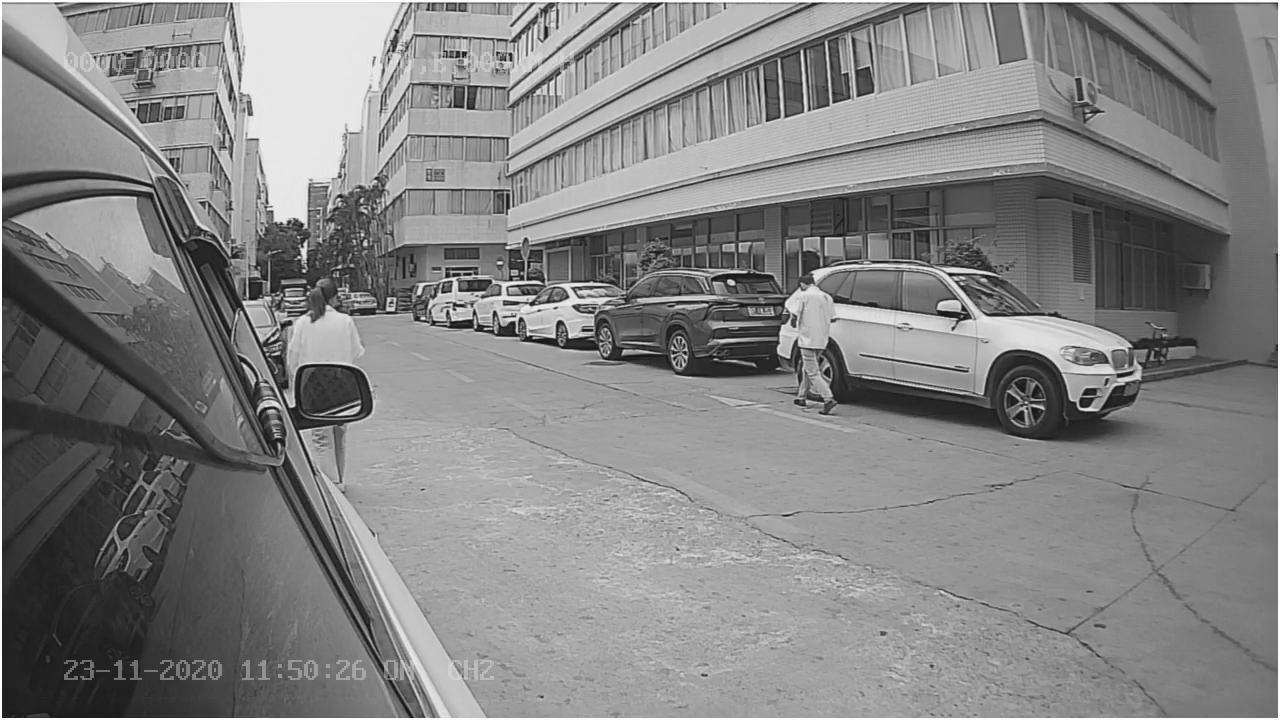person: (771, 265, 841, 416), (285, 275, 367, 364)
